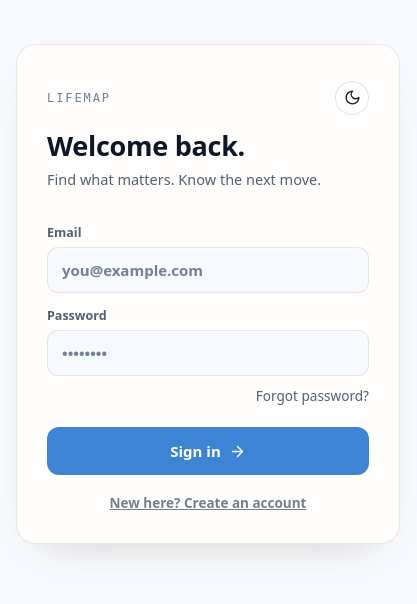
Test: AuthScreen › surfaces an auth error
The width and height of the screenshot is (417, 604).
In the field labelled "Email": (208, 270) left=47, top=248, right=369, bottom=294, type "alex@example.com"
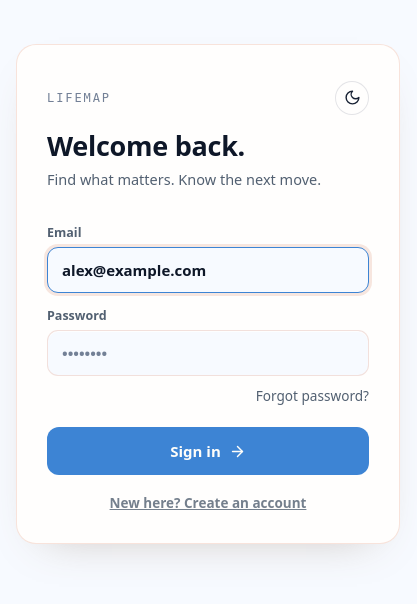
In the password field labelled "Password": (208, 354) left=47, top=330, right=369, bottom=376, type "wrongpass"
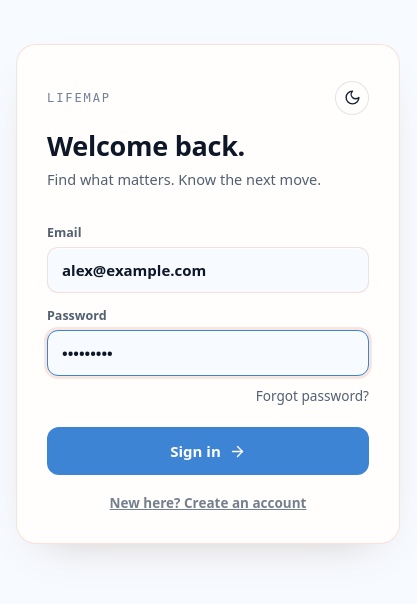
Click the button "Sign in": (208, 452) left=47, top=428, right=369, bottom=476
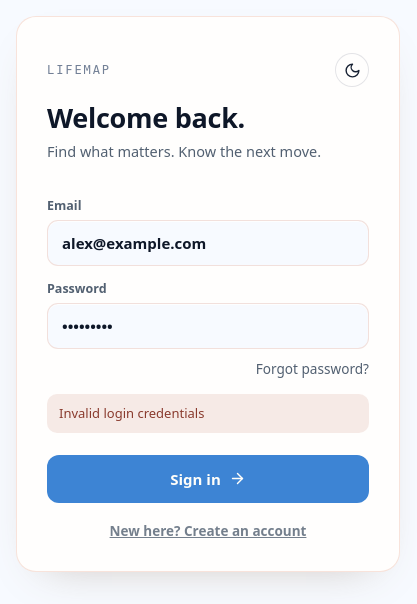
Result: the text "Invalid login credentials" is shown at left=47, top=394, right=369, bottom=433
